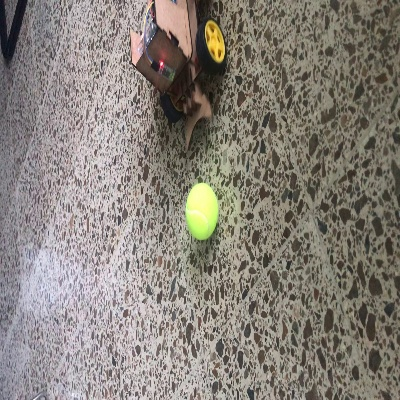Ball: (185, 183, 218, 240)
Robot: (128, 2, 226, 148)
